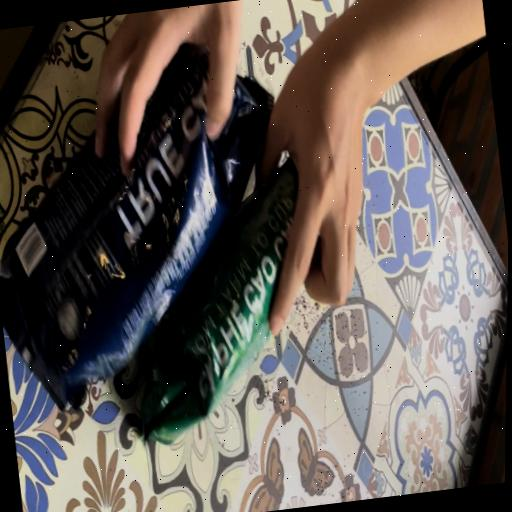cafe_hat: (0, 45, 270, 408)
cafe_xay: (140, 160, 296, 444)
